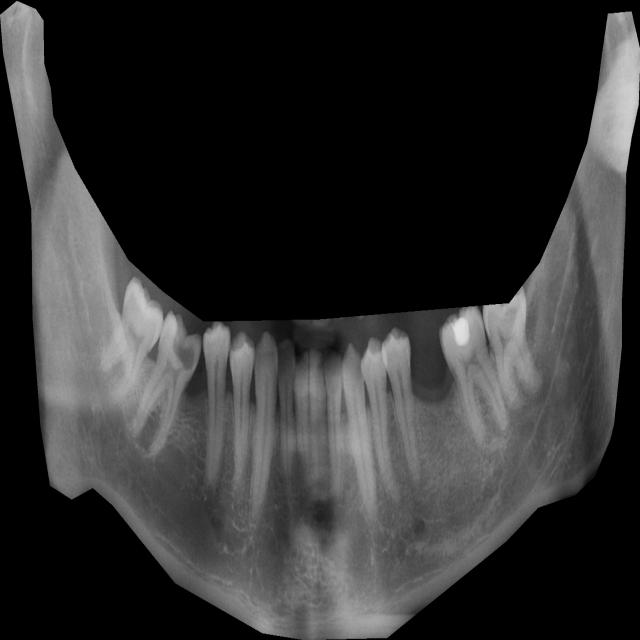mandibula: (0, 1, 640, 640)
